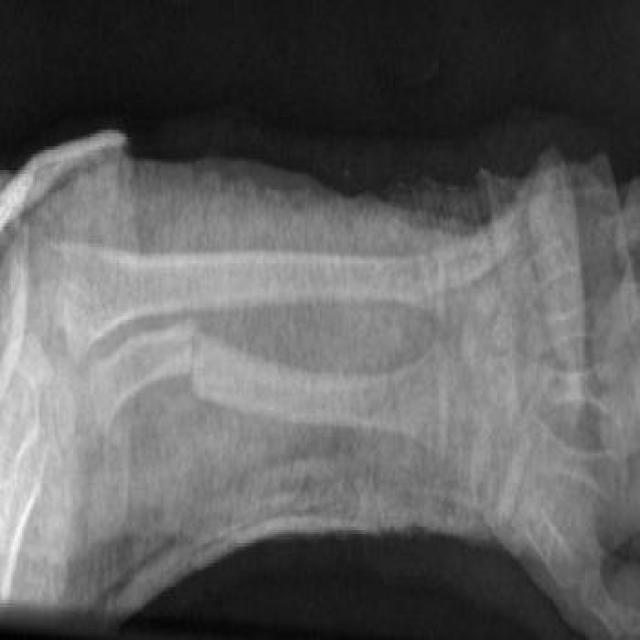fracture: (177, 298, 214, 413)
